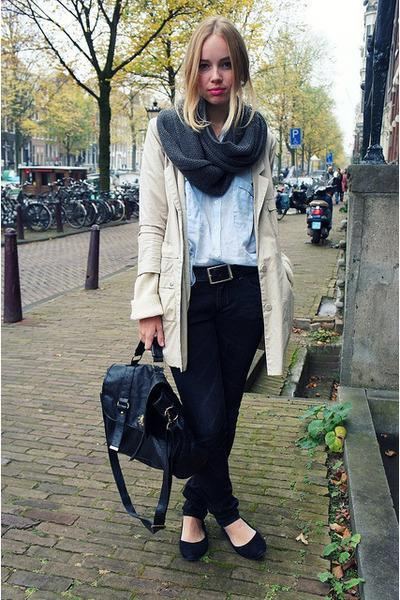bag: (100, 361, 198, 533)
jacket: (130, 111, 292, 375)
pants: (156, 276, 266, 530)
shirt: (182, 180, 262, 275)
shoe: (180, 530, 267, 562)
